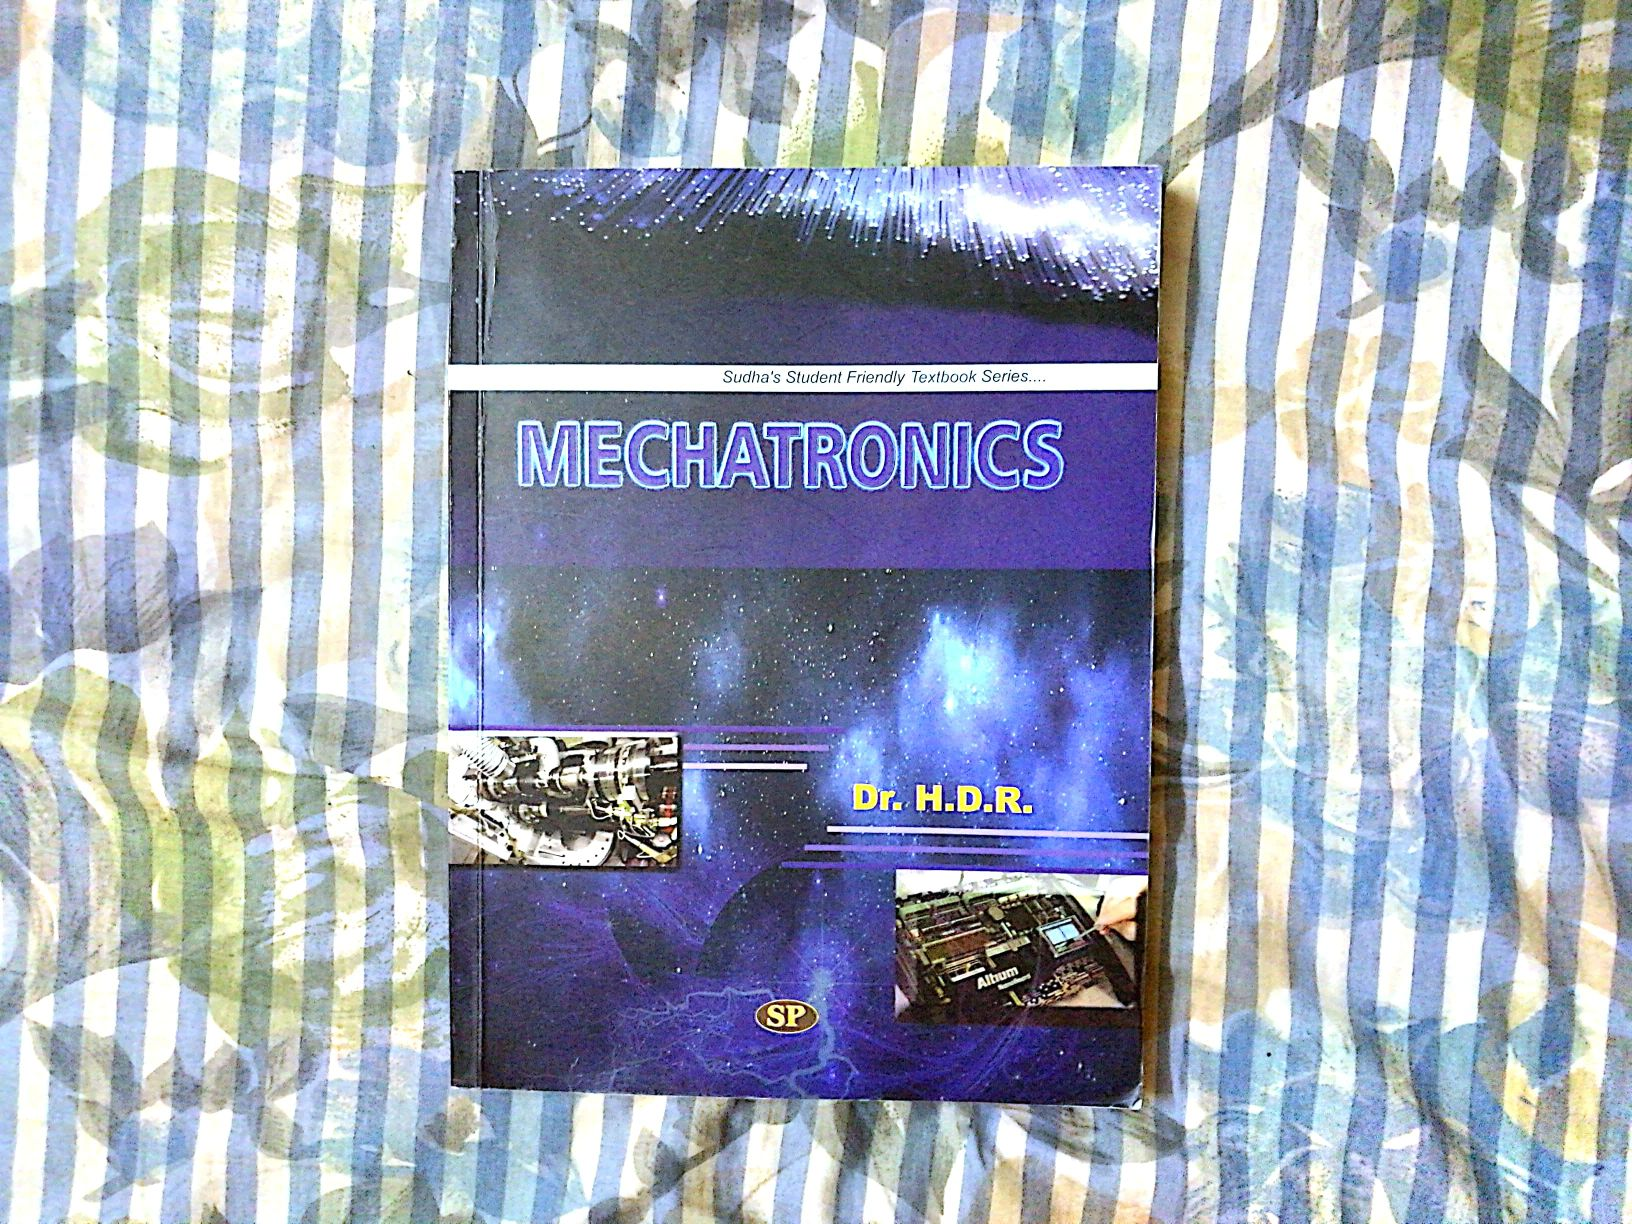mechatronics: (388, 138, 1202, 1151)
